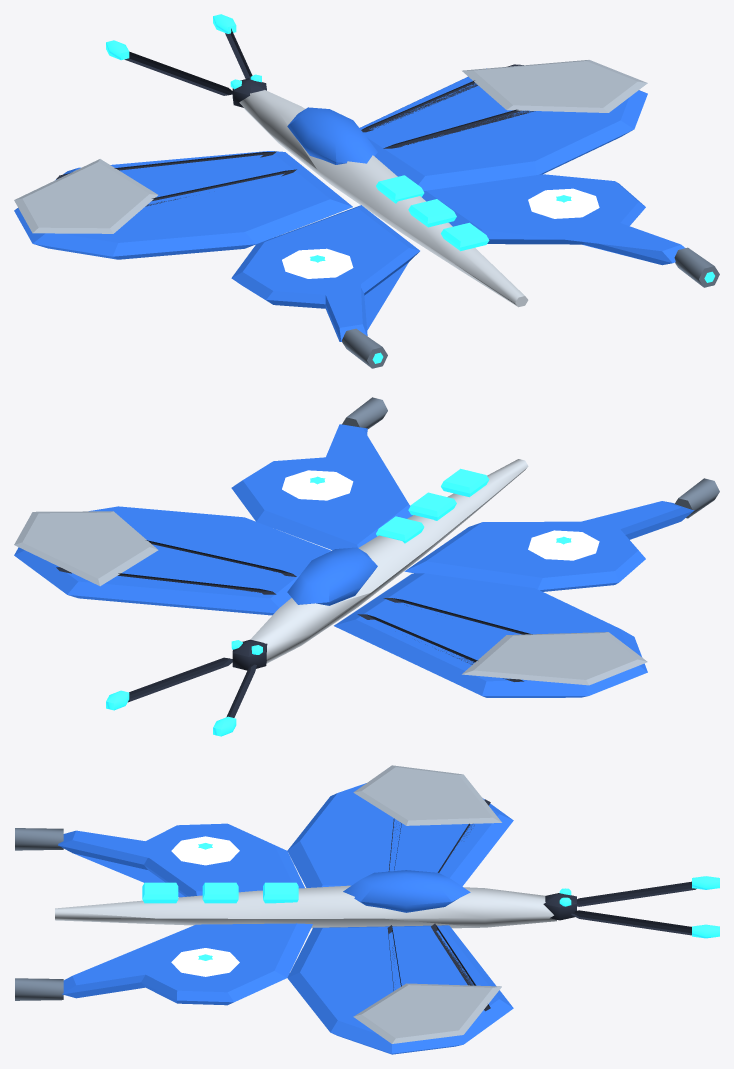
The model's file is player_butterfly_morpho.glb.
3 views of the same model, one above another, from view 1: azimuth 30°, elevation 25°; view 2: azimuth 150°, elevation 25°; view 3: azimuth 270°, elevation 25° (orthographic). The views are drawn at different scales.
Visible parts, largest first — view 1: PLAYER // SWALLOWTAIL MORPHO; view 2: PLAYER // SWALLOWTAIL MORPHO; view 3: PLAYER // SWALLOWTAIL MORPHO.
Part boxes in pixels (x1,y1,x2,y2): PLAYER // SWALLOWTAIL MORPHO: (14, 14, 719, 368); PLAYER // SWALLOWTAIL MORPHO: (14, 397, 719, 736); PLAYER // SWALLOWTAIL MORPHO: (15, 765, 719, 1054).
Bounding box in the file's own units: 3.91 × 0.3229 × 4.18.
